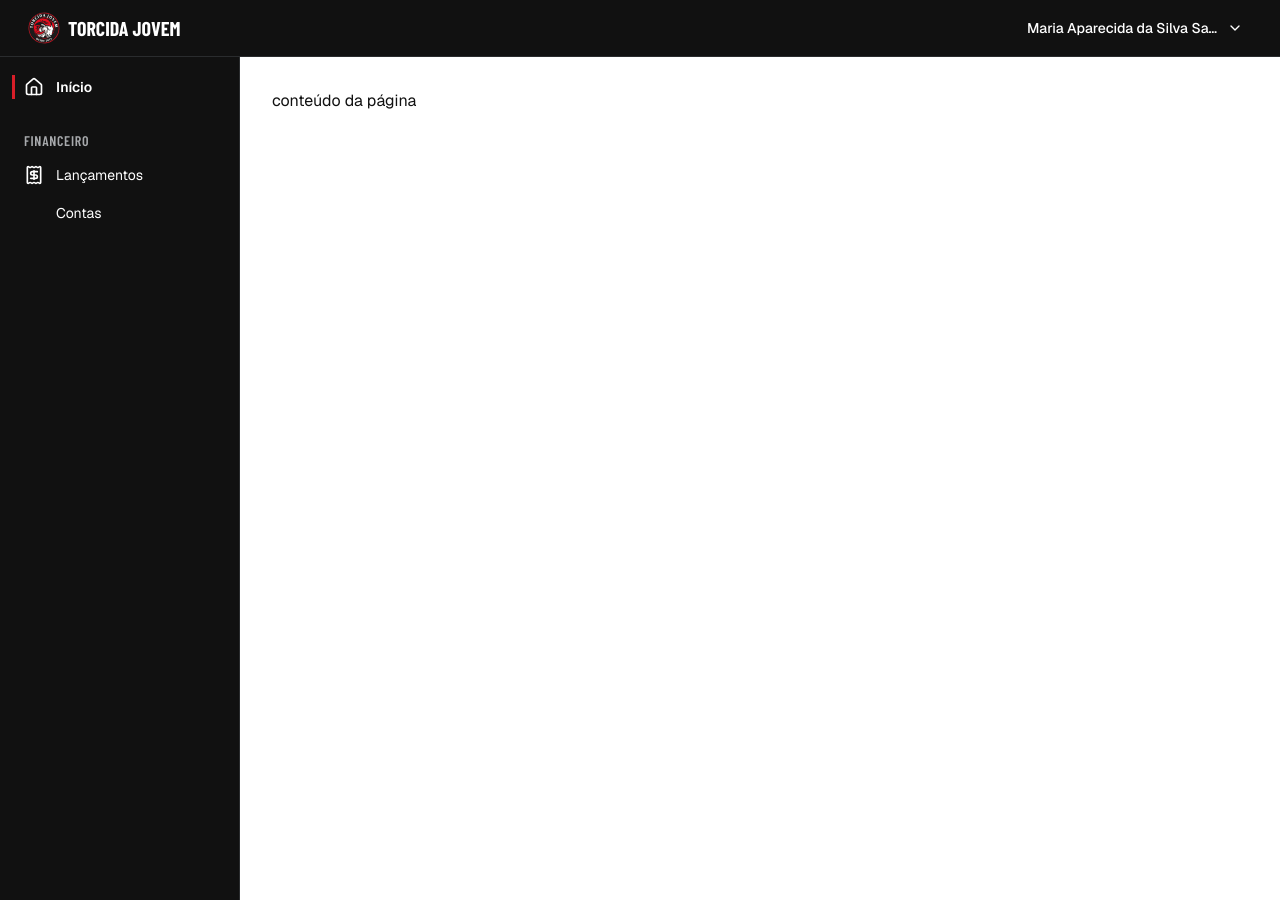
Test: menu da pessoa › sem e-mail, mostra só o nome
Click the button "Maria Aparecida da Silva Sauro": x=1135, y=28 [1014,10,1256,46]
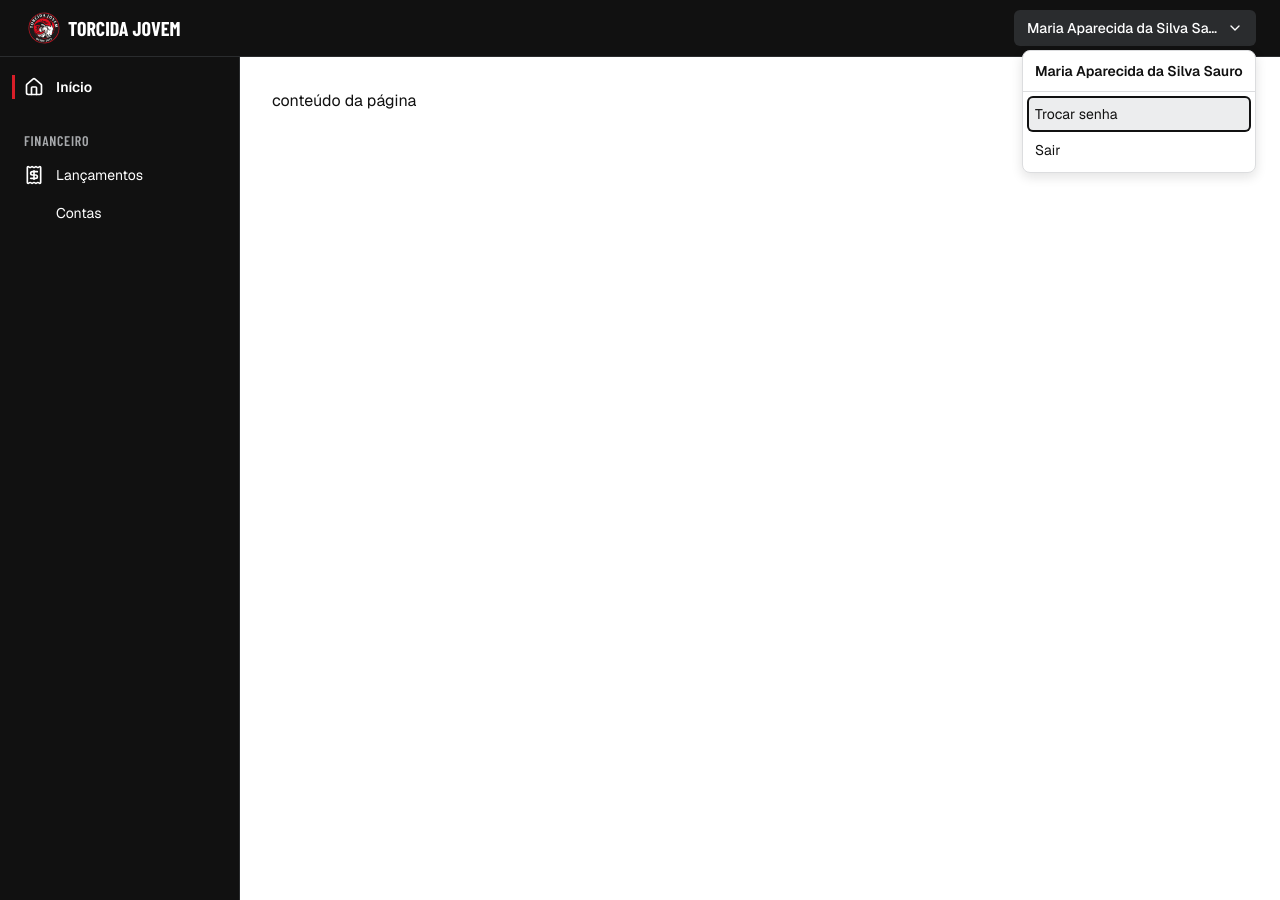
Expected: the 2nd text "Maria Aparecida da Silva Sauro" is shown, [1035,61,1243,81]
